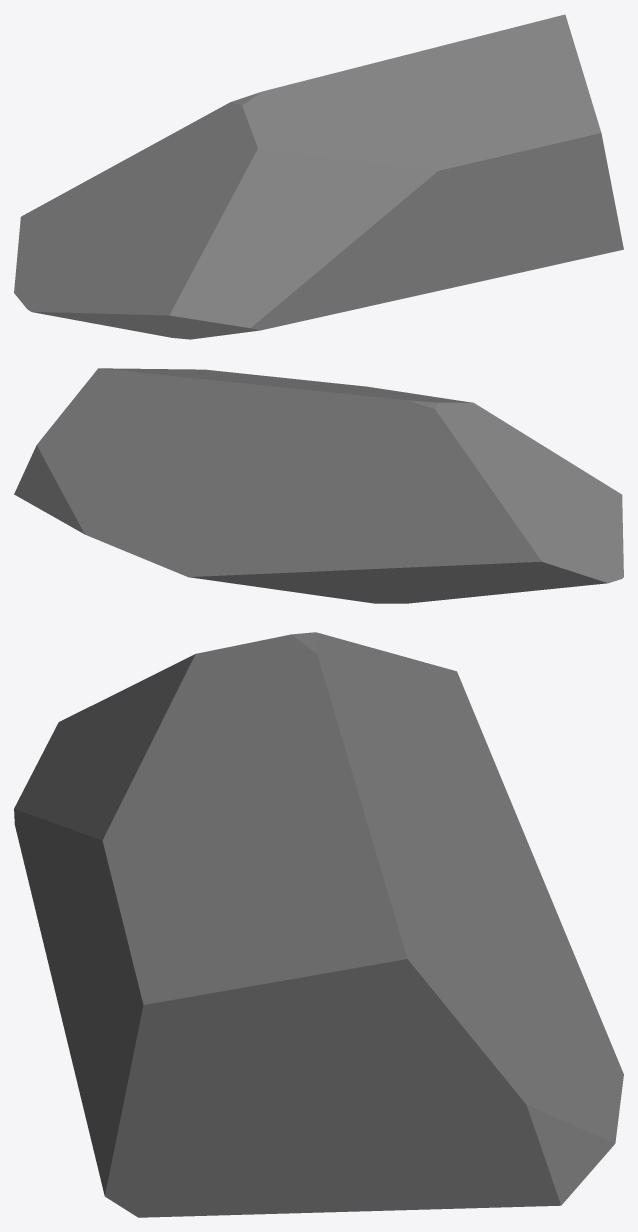
Rendered from asteroid03.obj.
3 views of the same model, one above another, from view 1: azimuth 30°, elevation 25°; view 2: azimuth 150°, elevation 25°; view 3: azimuth 270°, elevation 25° (orthographic). The views are drawn at different scales.
Parts seen in each view (by area): view 1: Cube; view 2: Cube; view 3: Cube.
Boxes of the visible parts, x1,y1,x2,y2 form: Cube: [14, 14, 623, 339]; Cube: [14, 368, 623, 603]; Cube: [14, 632, 623, 1217].
Size of the model in its own units: 6.03 by 2 by 3.1.
Materials: 1 (1 with a texture image).
